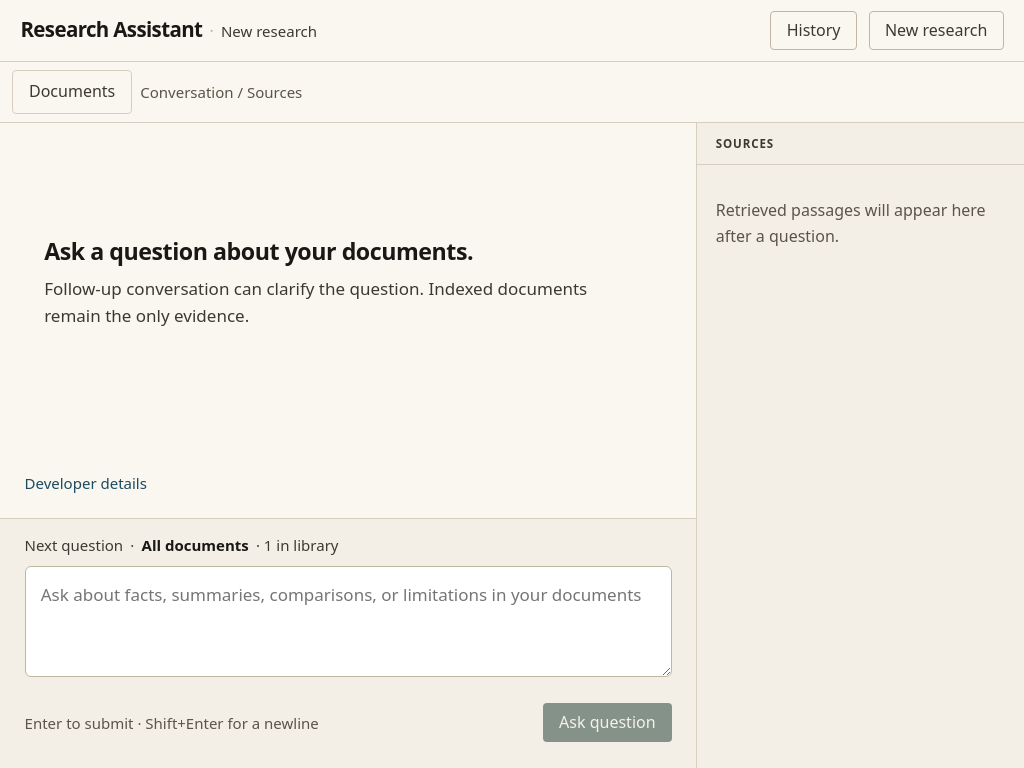
Test: App › composer submit › New research then typed question goes to a new session
Type "First question" into the text box named "Research question" at (348, 622), box 25,566 -> 672,677
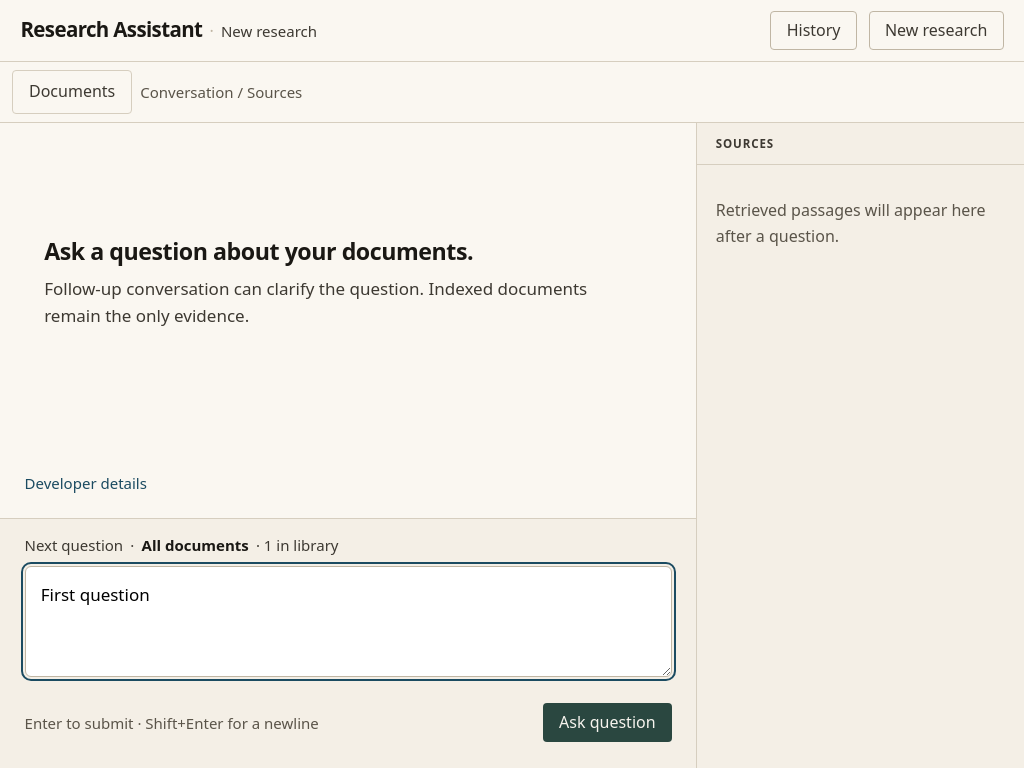
Press Enter
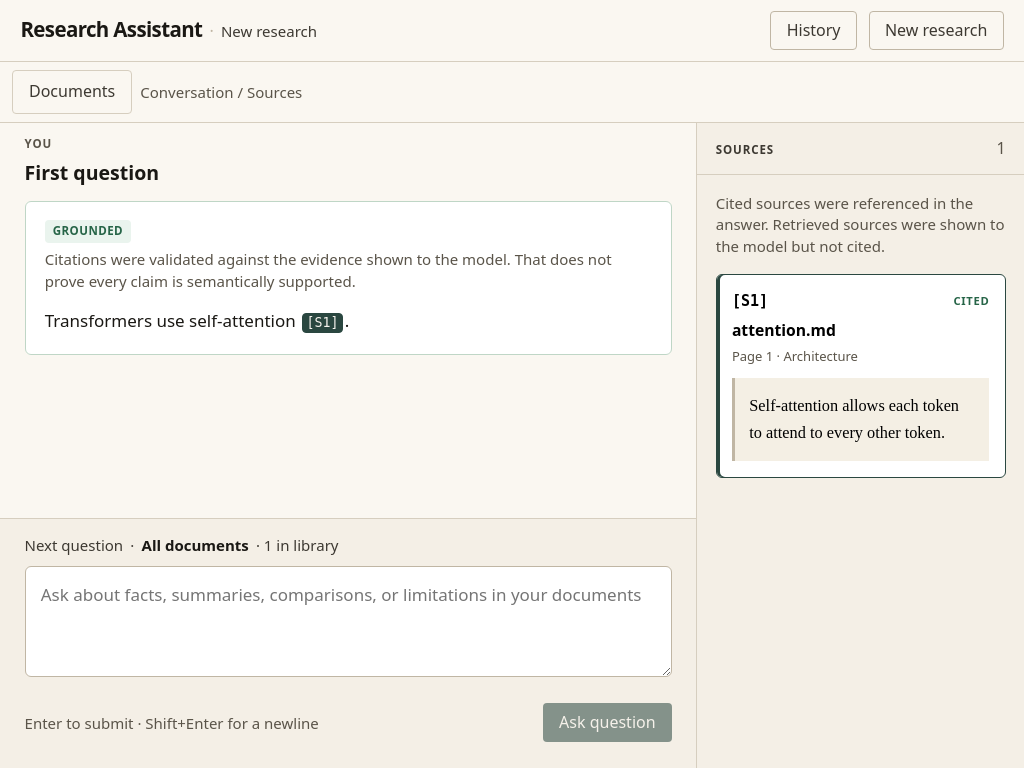
expect the text "Grounded" is shown: met, box 45,220 -> 131,243
Click the button "New research" at (936, 30), box 869,11 -> 1004,50
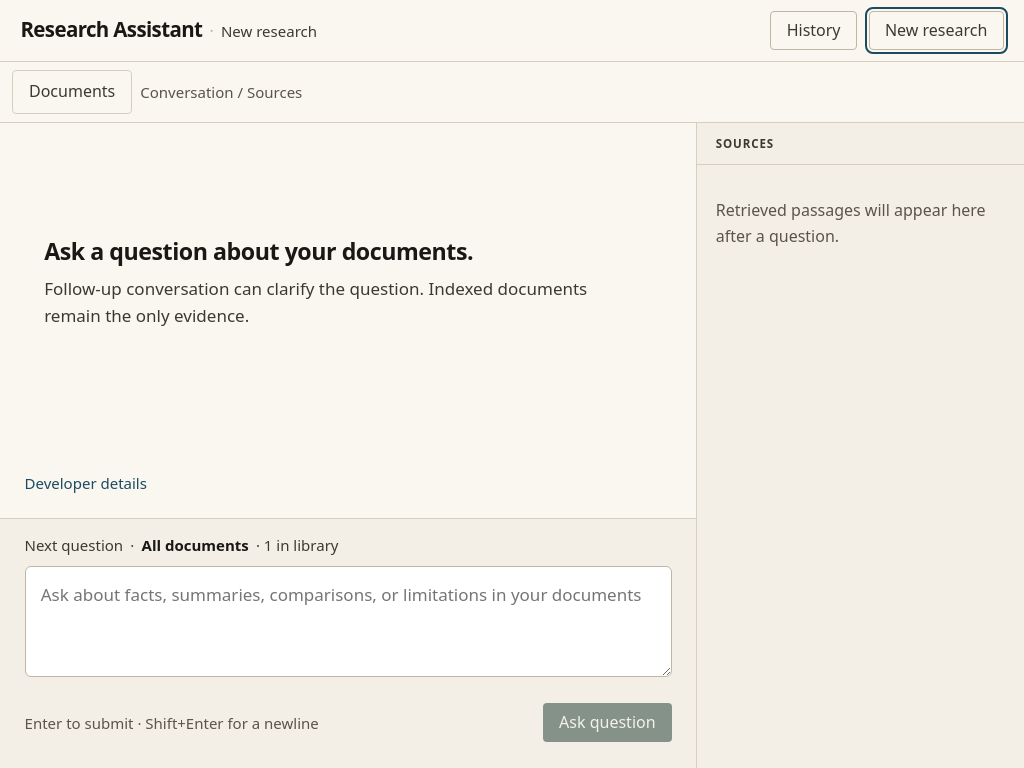
Type "Second question" into the text box named "Research question" at (348, 622), box 25,566 -> 672,677
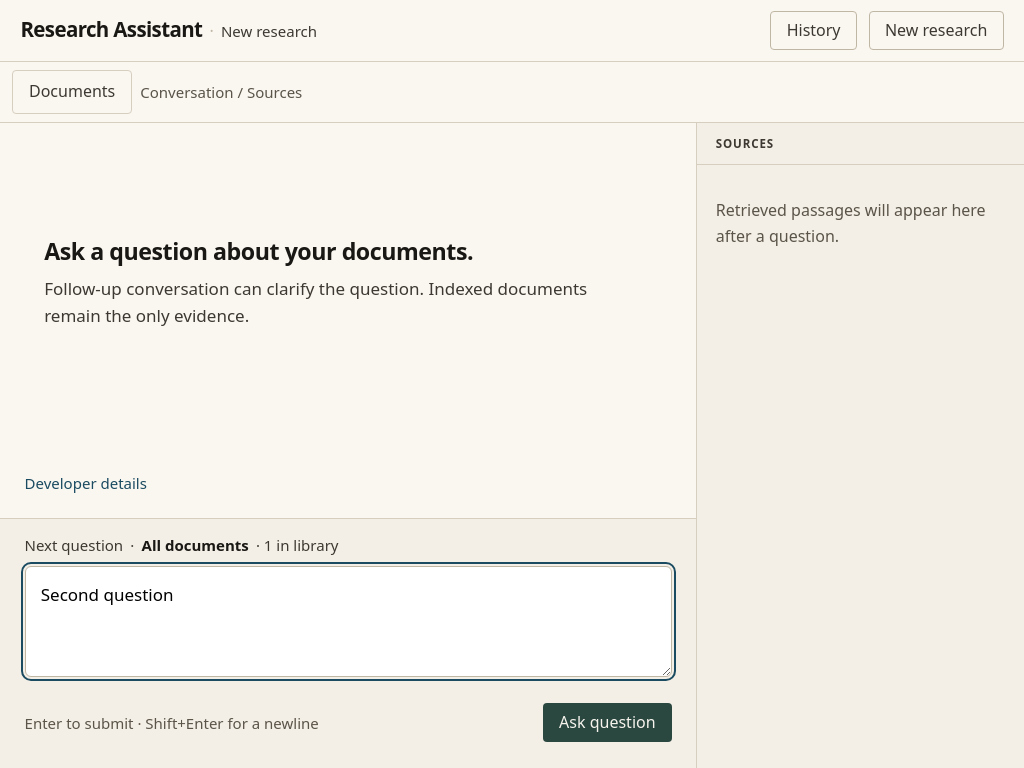
Press Enter
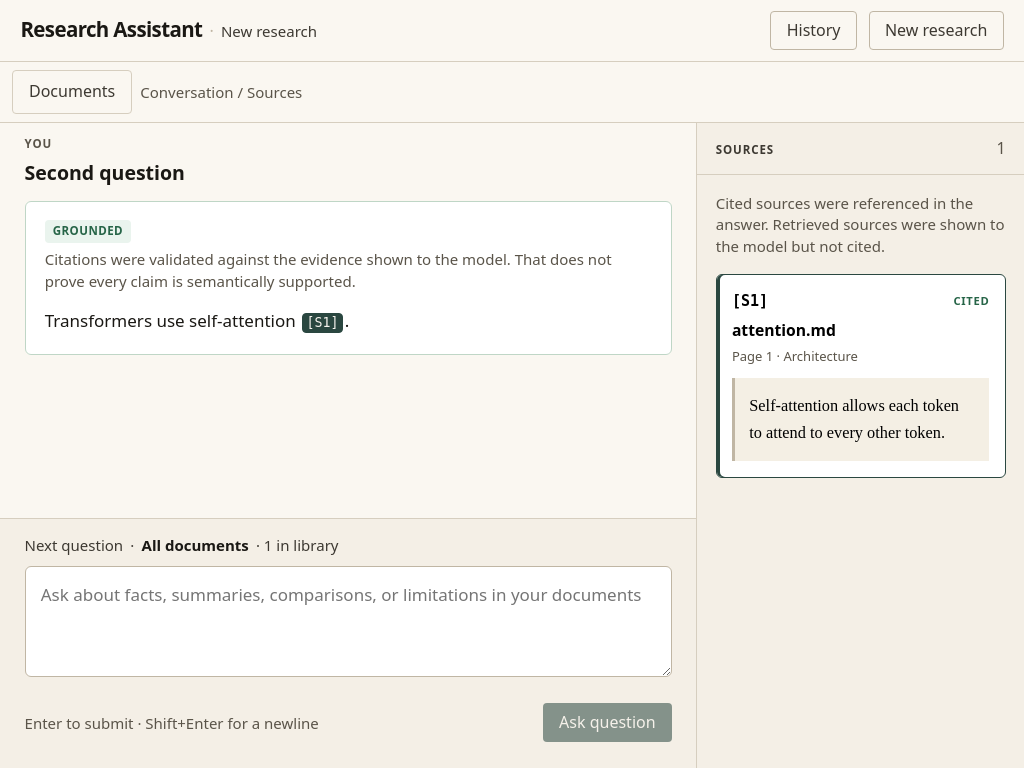
expect the text "Second question" is shown: met, box 25,159 -> 185,186
